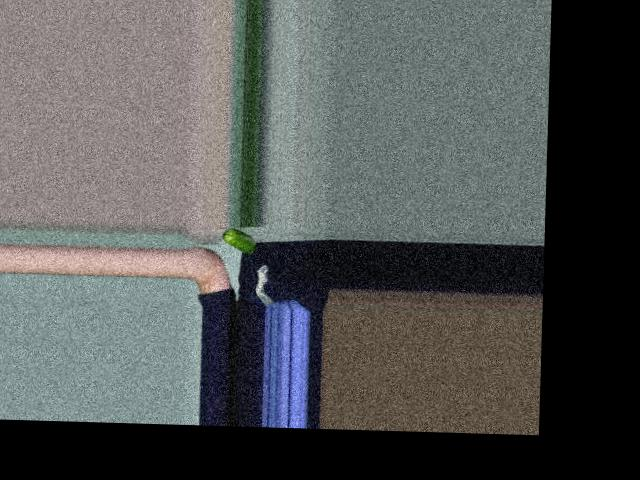cucumber: (221, 227, 256, 253)
